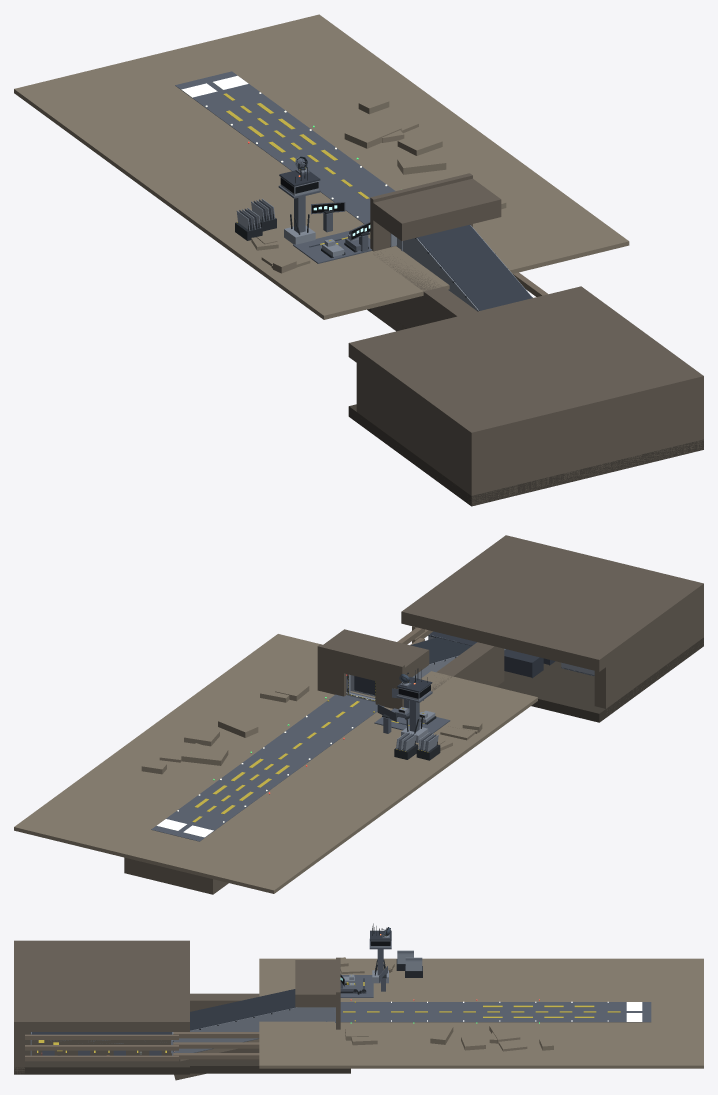
The model's file is runway-site-m2.glb.
The picture shows the model from 3 angles, top to bottom: view 1: azimuth 30°, elevation 25°; view 2: azimuth 150°, elevation 25°; view 3: azimuth 270°, elevation 25°; orthographic projection. The views are drawn at different scales.
Parts seen in each view (by area): view 1: groundPlate, rockRoof0, rockWallN, rockWallW (×2), stripBed, bermMass, rampRoof, rockFloor, rampWallL, towerApron, stripBerm0, bermFace0 (+1 smaller); view 2: groundPlate, rockRoof0, stripBed, rockWallW (×2), rockFloor, bermMass, stripPlinth, bermFace1, bermFace0, rampRoof, bermFace2, stripBerm0 (+2 smaller); view 3: groundPlate, rockRoof0, stripBed, rockFloor (×2), rampWallR, rampRoof, bermMass, rockStrata0 (×2), rockStrata1 (×2), rockStrata2 (×2), rockWallW, rampUnderMass (+8 smaller).
Boxes of the visible parts, x1=… form: groundPlate: x1=14, y1=14, x2=629, y2=319; rockRoof0: x1=348, y1=286, x2=703, y2=446; rockWallN: x1=463, y1=390, x2=703, y2=505; rockWallW (×2): x1=356, y1=251, x2=477, y2=489; stripBed: x1=175, y1=71, x2=395, y2=223; bermMass: x1=372, y1=178, x2=501, y2=240; rampRoof: x1=417, y1=224, x2=532, y2=310; rockFloor: x1=348, y1=404, x2=703, y2=506; rampWallL: x1=396, y1=238, x2=478, y2=310; towerApron: x1=293, y1=230, x2=372, y2=263; stripBerm0: x1=344, y1=119, x2=401, y2=148; bermFace0: x1=370, y1=190, x2=404, y2=251; groundPlate: x1=14, y1=634, x2=537, y2=893; rockRoof0: x1=401, y1=535, x2=703, y2=671; stripBed: x1=151, y1=694, x2=383, y2=841; rockWallW (×2): x1=431, y1=600, x2=697, y2=716; rockFloor: x1=496, y1=637, x2=703, y2=722; bermMass: x1=323, y1=629, x2=429, y2=676; stripPlinth: x1=124, y1=857, x2=228, y2=894; bermFace1: x1=317, y1=644, x2=346, y2=696; bermFace0: x1=375, y1=658, x2=404, y2=709; rampRoof: x1=411, y1=637, x2=471, y2=663; bermFace2: x1=344, y1=651, x2=377, y2=680; stripBerm0: x1=181, y1=745, x2=228, y2=765; groundPlate: x1=259, y1=958, x2=703, y2=1068; rockRoof0: x1=14, y1=940, x2=189, y2=1031; stripBed: x1=340, y1=1002, x2=651, y2=1022; rockFloor (×2): x1=14, y1=1032, x2=350, y2=1074; rampWallR: x1=174, y1=1007, x2=334, y2=1052; rampRoof: x1=190, y1=989, x2=295, y2=1030; bermMass: x1=295, y1=960, x2=336, y2=1007; rockStrata0 (×2): x1=25, y1=1053, x2=259, y2=1061; rockStrata1 (×2): x1=25, y1=1042, x2=259, y2=1050; rockStrata2 (×2): x1=25, y1=1032, x2=259, y2=1039; rockWallW: x1=190, y1=993, x2=259, y2=1011; rampUnderMass: x1=174, y1=1039, x2=259, y2=1080.
Bounding box in the file's own units: 98.03 × 43.56 × 248.
